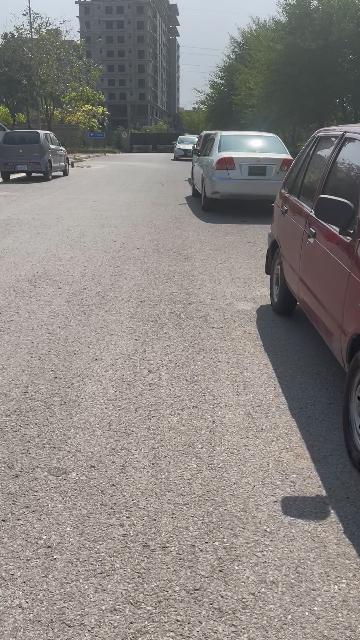plate: (248, 165, 268, 177)
